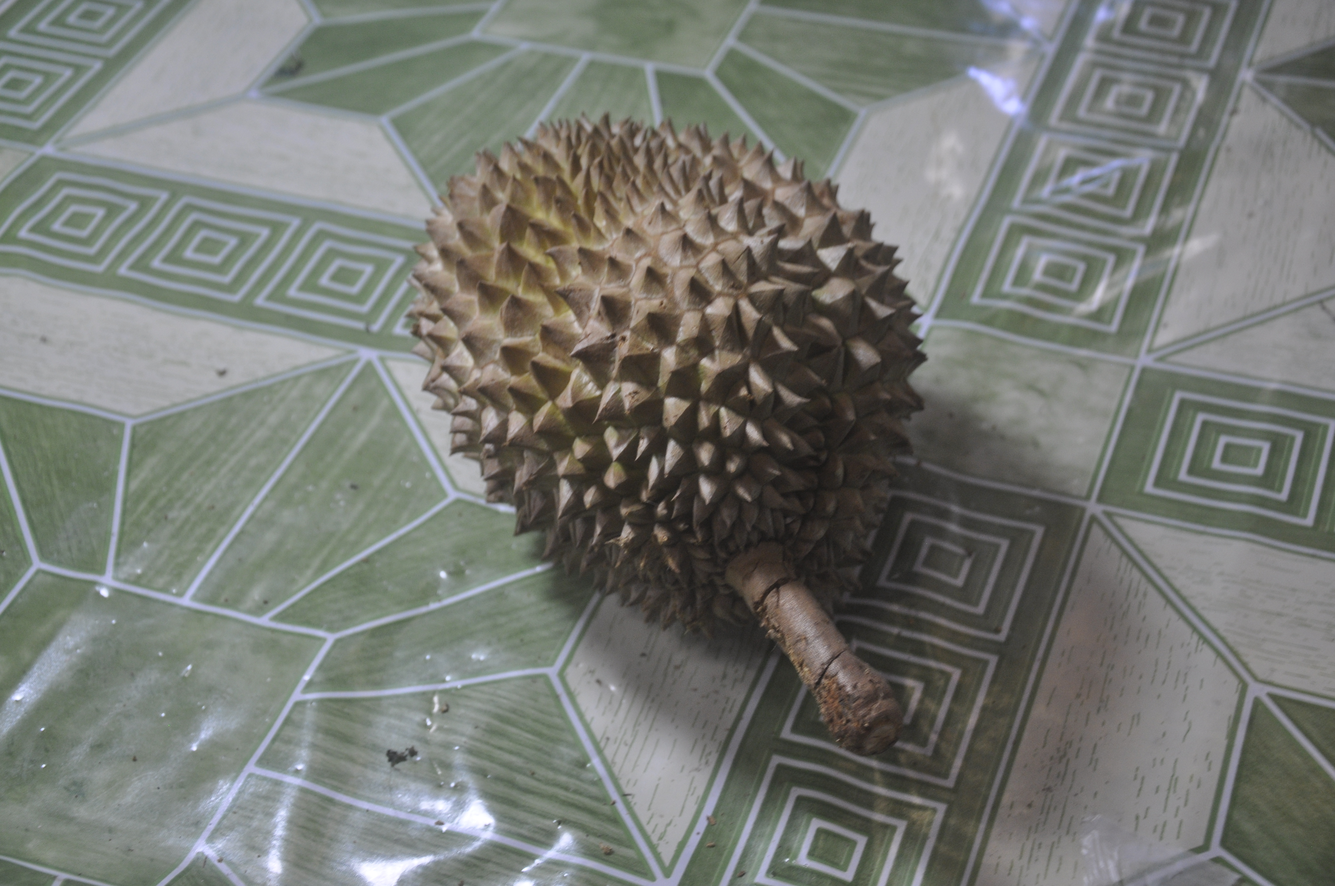mature: (412, 117, 924, 754)
